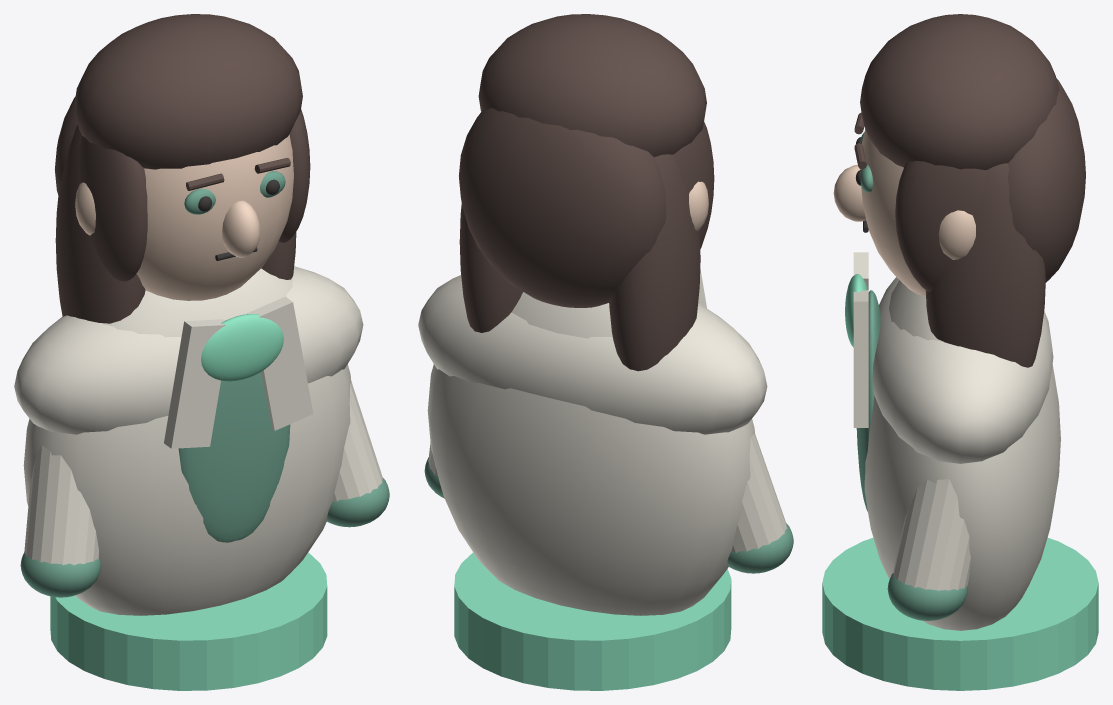
File: growth.glb
The picture shows the model from 3 angles, left to right: view 1: azimuth 30°, elevation 25°; view 2: azimuth 150°, elevation 25°; view 3: azimuth 270°, elevation 25°; orthographic projection.
Parts seen in each view (by area): view 1: Jacket torso, Hair cap, Bust plinth, Shoulder line, Head, Shirt front, Long hair fall.001, Hair side lock.003, Arm.003, Jacket lapel.002, Jacket lapel.003, Emerald collar (+8 smaller); view 2: Jacket torso, Rear hair, Shoulder line, Hair cap, Bust plinth, Long hair fall.001, Long hair fall, Arm.003, Hair side lock.003, Cuff.003, Ear.003; view 3: Bust plinth, Hair cap, Jacket torso, Shoulder line, Long hair fall, Rear hair, Hair side lock, Arm, Head, Cuff, Jacket lapel.003, Shirt front (+4 smaller).
Boxes of the visible parts, box(x1,y1,x2,y2) form: Jacket torso: box(23, 268, 351, 615); Hair cap: box(74, 14, 302, 169); Bust plinth: box(50, 552, 327, 690); Shoulder line: box(14, 266, 363, 434); Head: box(136, 134, 293, 300); Shirt front: box(178, 372, 290, 542); Long hair fall.001: box(55, 125, 145, 323); Hair side lock.003: box(78, 136, 147, 281); Arm.003: box(24, 445, 98, 565); Jacket lapel.002: box(164, 319, 225, 448); Jacket lapel.003: box(247, 296, 313, 430); Emerald collar: box(201, 314, 283, 381); Jacket torso: box(427, 292, 755, 615); Rear hair: box(459, 108, 666, 307); Shoulder line: box(418, 275, 767, 434); Hair cap: box(478, 14, 706, 157); Bust plinth: box(454, 552, 731, 690); Long hair fall.001: box(609, 154, 700, 371); Long hair fall: box(459, 203, 522, 332); Arm.003: box(731, 434, 787, 552); Hair side lock.003: box(672, 121, 714, 248); Cuff.003: box(727, 523, 793, 573); Ear.003: box(689, 181, 708, 230); Bust plinth: box(822, 538, 1098, 690); Hair cap: box(860, 14, 1059, 169); Jacket torso: box(864, 280, 1060, 630); Shoulder line: box(872, 277, 1053, 463); Long hair fall: box(925, 163, 1045, 367); Rear hair: box(1008, 78, 1085, 282); Hair side lock: box(895, 161, 987, 291); Arm: box(893, 479, 970, 590); Head: box(860, 129, 925, 296); Cuff: box(887, 573, 967, 620); Jacket lapel.003: box(853, 290, 868, 427); Shirt front: box(856, 290, 880, 511).
Bounding box in the file's own units: 1.64 × 2.65 × 1.1.
